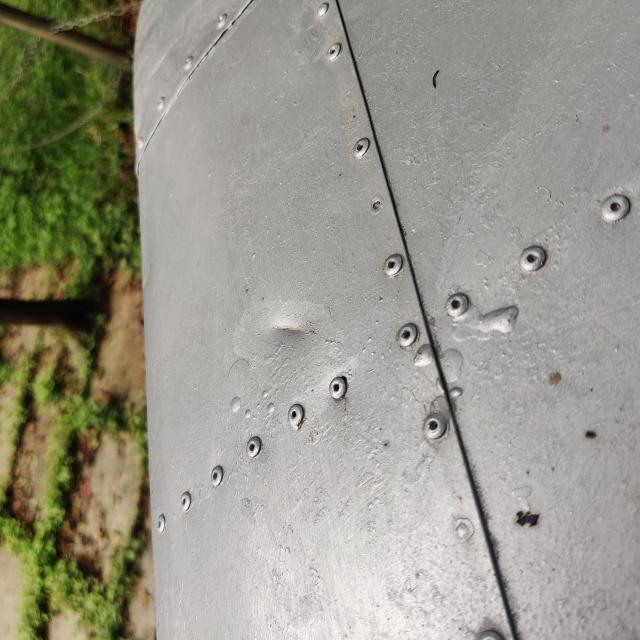dent: (273, 250, 362, 338)
